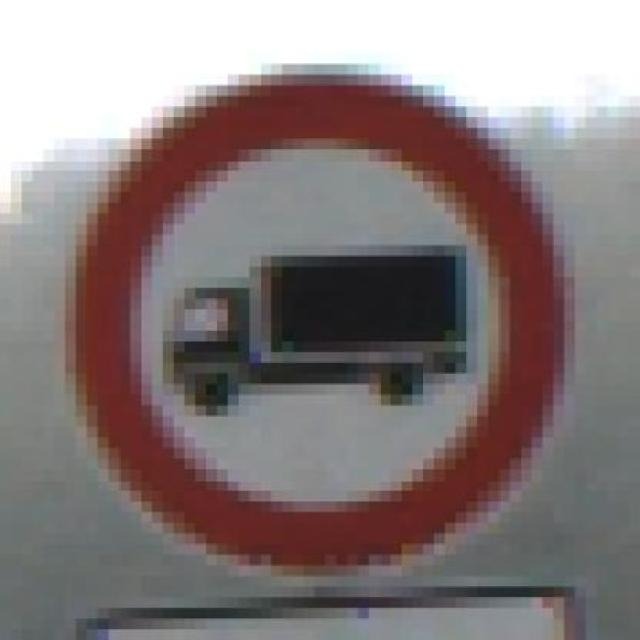Truck traffic is prohibited: (72, 35, 572, 579)
